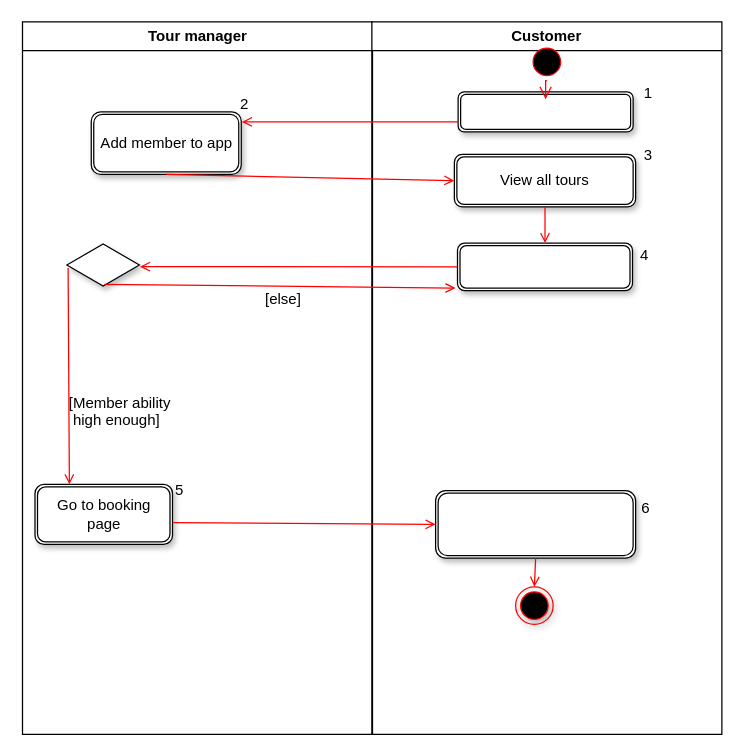
The diagram is 744 pixels wide and 756 high, and some of its shapes have lost their labels. Here are the shapes that lost their labels. From the top down, the centre of each, then its label:
At (x=546, y=113): "Create account".
At (x=545, y=268): "Select tour to book".
At (x=536, y=525): "Book tour".
